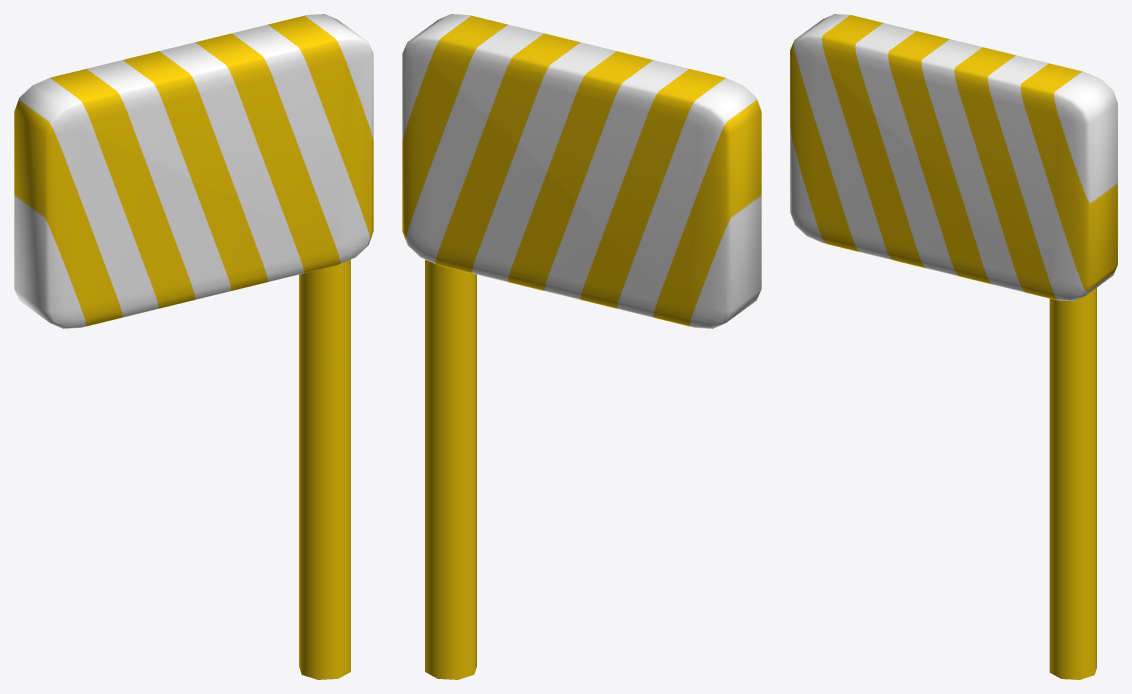
The model's file is Obstacle 1.fbx.
The picture shows the model from 3 angles, left to right: view 1: azimuth 30°, elevation 25°; view 2: azimuth 150°, elevation 25°; view 3: azimuth 330°, elevation 25°; orthographic projection. The views are drawn at different scales.
Parts seen in each view (by area): view 1: Cube.001, Cylinder; view 2: Cube.001, Cylinder; view 3: Cube.001, Cylinder.
Part boxes in pixels (x1,y1,x2,y2): Cube.001: (14, 14, 373, 328); Cylinder: (299, 259, 350, 679); Cube.001: (402, 14, 761, 328); Cylinder: (425, 259, 476, 679); Cube.001: (790, 14, 1117, 301); Cylinder: (1049, 288, 1096, 679).
Bounding box in the file's own units: 195 × 365 × 38.38.
